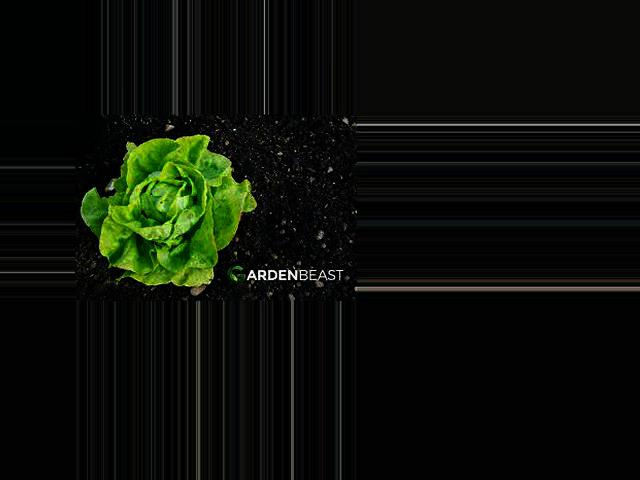lettuce: (94, 147, 249, 276)
